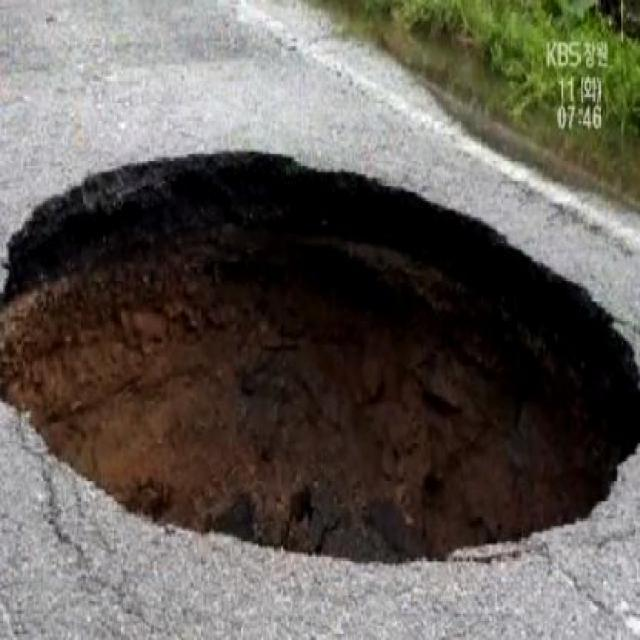pothole: (0, 135, 638, 587)
